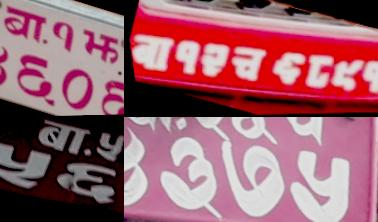0: (48, 63, 103, 116)
1: (42, 17, 82, 58), (166, 37, 207, 76), (353, 58, 378, 95)
2: (175, 117, 244, 143), (192, 38, 232, 80)
3: (140, 129, 238, 222)
4: (124, 117, 166, 216), (0, 33, 19, 94)
5: (268, 144, 373, 222), (0, 131, 57, 200), (85, 124, 124, 168)
6: (46, 151, 124, 216), (2, 48, 68, 111), (215, 117, 289, 150), (81, 72, 124, 115), (264, 48, 310, 88)
7: (196, 135, 297, 222)
8: (296, 51, 338, 91)
9: (324, 53, 367, 94)
ba: (28, 117, 94, 161), (0, 1, 53, 49), (127, 29, 177, 72), (124, 117, 188, 140)
cha: (222, 42, 269, 86)
jha: (70, 24, 124, 70)
pa: (259, 117, 347, 157)
